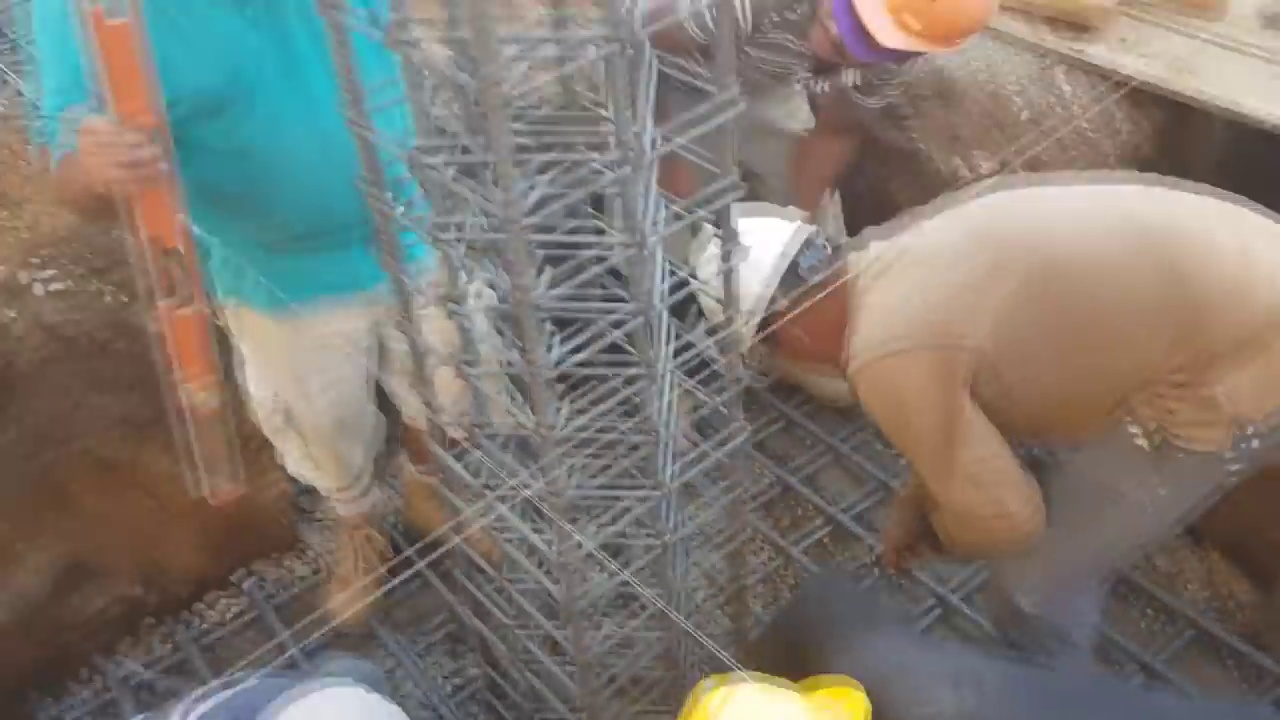helmet: (679, 203, 817, 363), (673, 664, 876, 720), (857, 0, 1000, 64)
helmet-on: (686, 194, 864, 378), (793, 0, 1001, 89), (678, 654, 895, 716)
person: (8, 0, 505, 629), (685, 176, 1280, 653), (666, 568, 1278, 713), (634, 0, 1006, 207)
